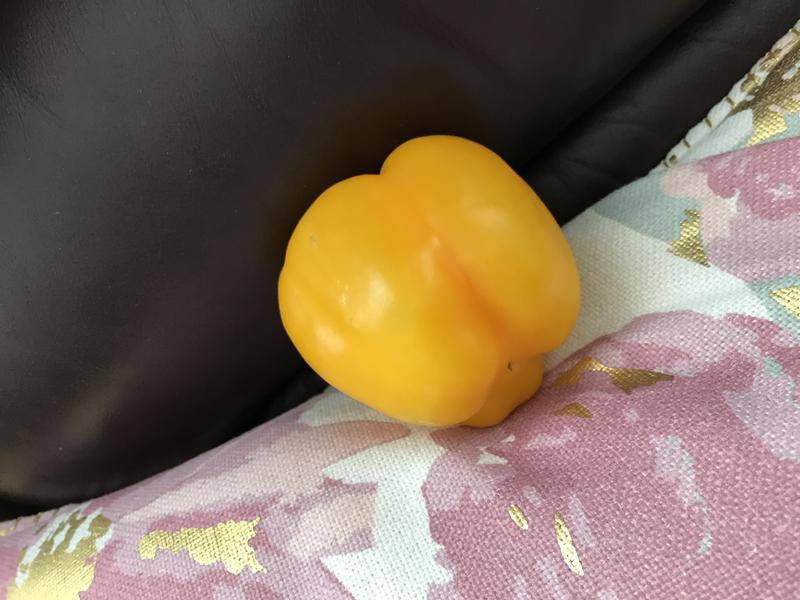yellow_pepper: (263, 119, 594, 446)
